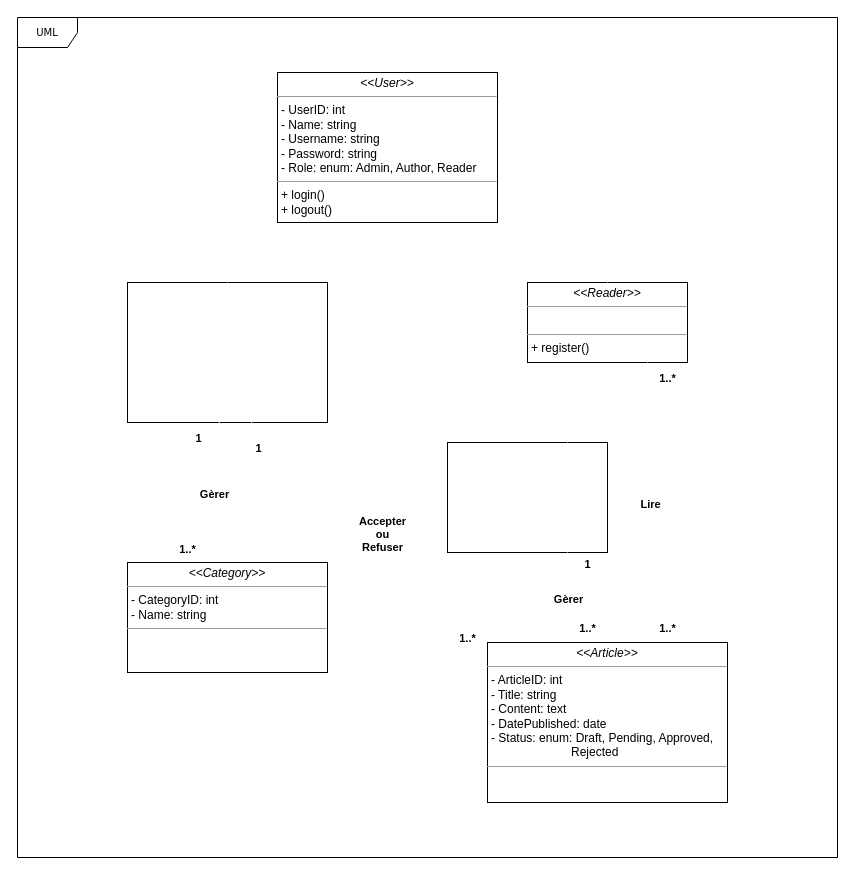
This 855x875 diagram has some shape labels left out. Here are the shapes that lost their labels. From the top down, the box of each, then its label:
(126, 282, 328, 422): <<Admin>> + approveArt() + rejectArt() + createCat() + deleteCat() + modifyCat()
(446, 442, 608, 552): <<Author>> + createArt() + modifyArt() + deleteArt()
